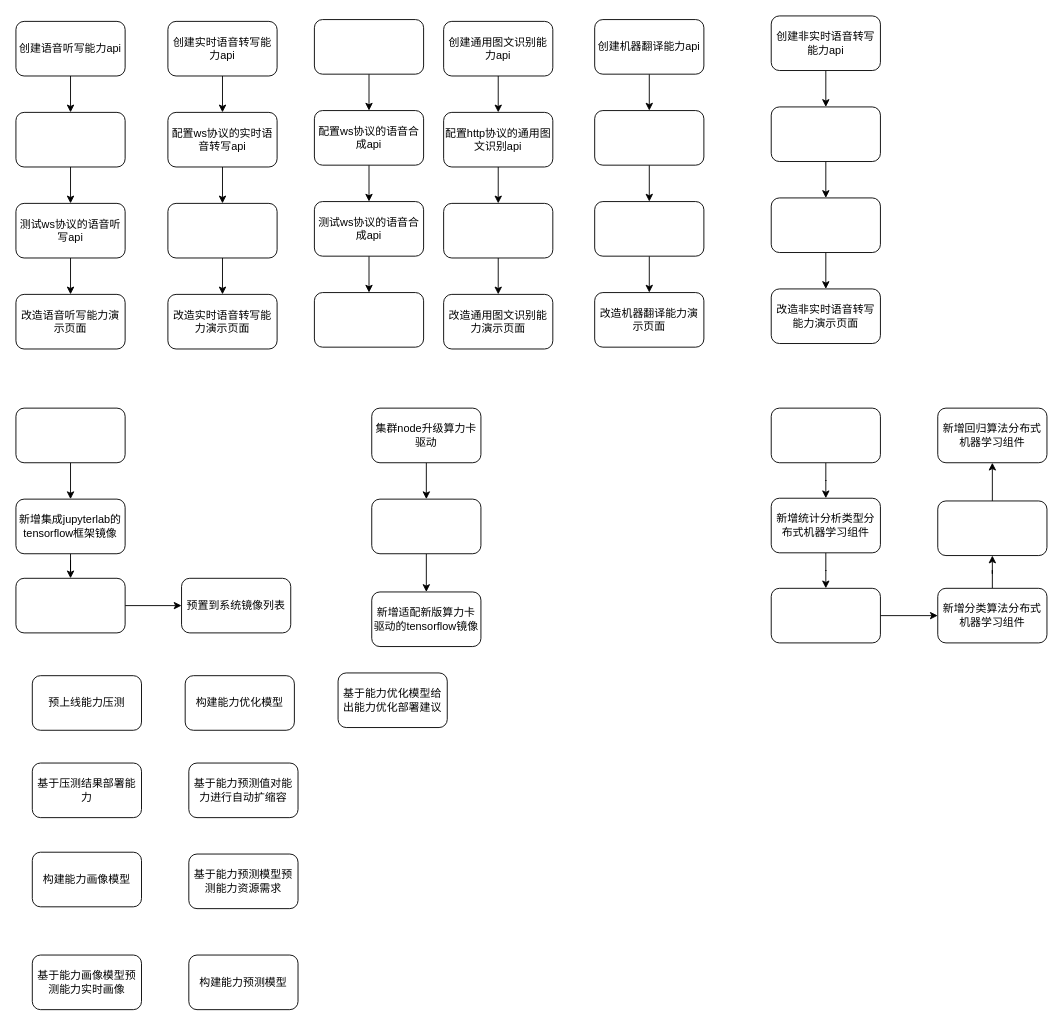
Some shapes in this 1063 by 1026 pixel diagram are drawn without their labels. Each missing label, with the box of its shape:
创建语音合成能力api: (313, 19, 424, 74)
改造语音合成能力演示页面: (313, 292, 424, 347)
新增数据准备类型分布式机器学习组件: (770, 407, 880, 463)
新增特征转换类型分布式机器学习组件: (770, 587, 880, 643)
新增聚类算法分布式机器学习组件: (937, 500, 1047, 556)
新增适配新版算力卡驱动的pytorch镜像: (371, 498, 481, 554)
新增集成jupyterlab的paddlepaddle框架镜像: (15, 577, 125, 633)
新增集成jupyterlab的pytorch框架镜像: (15, 407, 125, 463)
测试http协议的机器翻译api: (594, 201, 704, 256)
测试http协议的通用图文识别api: (443, 202, 553, 258)
测试http协议的非实时语音转写api: (770, 197, 880, 253)
测试ws协议的实时语音转写api: (167, 202, 277, 258)
配置http协议的机器翻译api: (594, 110, 704, 165)
配置http协议的非实时语音转写api: (770, 106, 880, 162)
配置ws协议的语音听写api: (15, 111, 125, 167)
